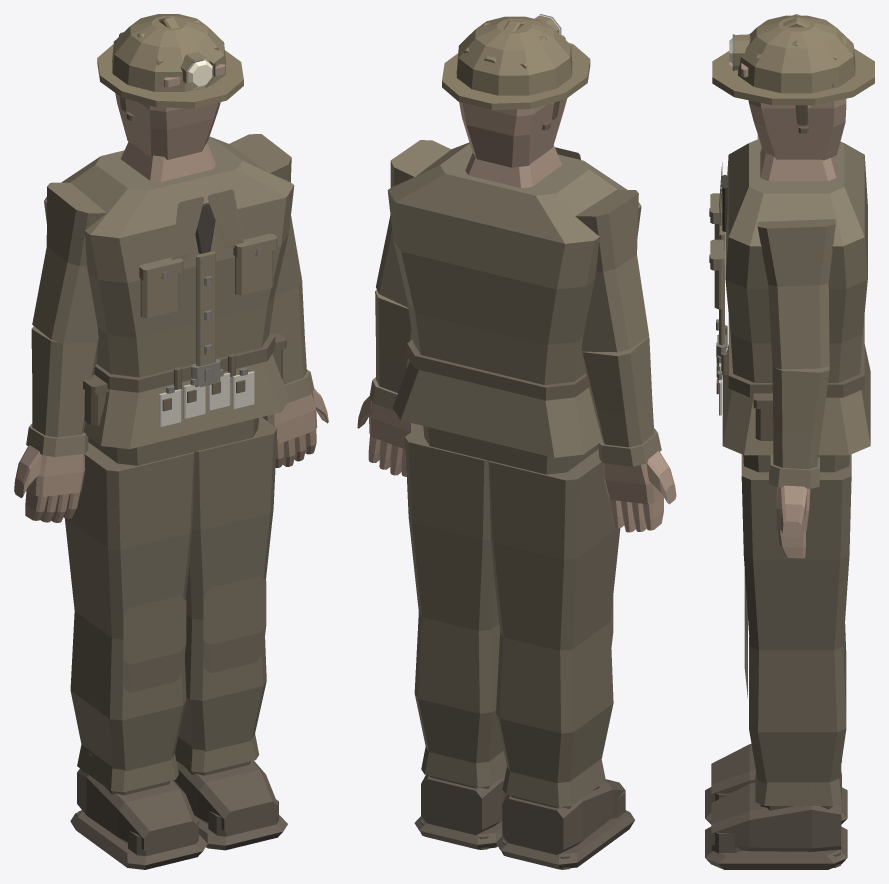
Rendered from PSG_Miner.fbx.
3 views of the same model, side by side, from view 1: azimuth 30°, elevation 25°; view 2: azimuth 150°, elevation 25°; view 3: azimuth 270°, elevation 25° (orthographic).
Visible parts, largest first — view 1: PSG_Miner; view 2: PSG_Miner; view 3: PSG_Miner.
Boxes of the visible parts, left/top/right/bottom form: PSG_Miner: left=14, top=14, right=328, bottom=869; PSG_Miner: left=357, top=14, right=676, bottom=869; PSG_Miner: left=705, top=14, right=874, bottom=869.
Size of the model in its own units: 70.27 by 176 by 33.38.
